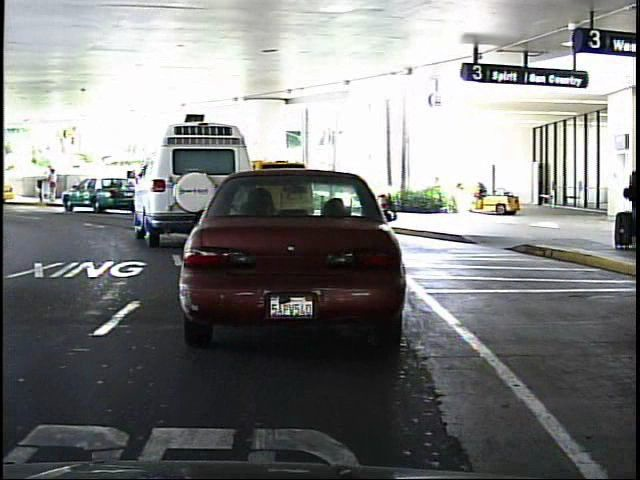person: (44, 166, 62, 205), (47, 163, 60, 203)
